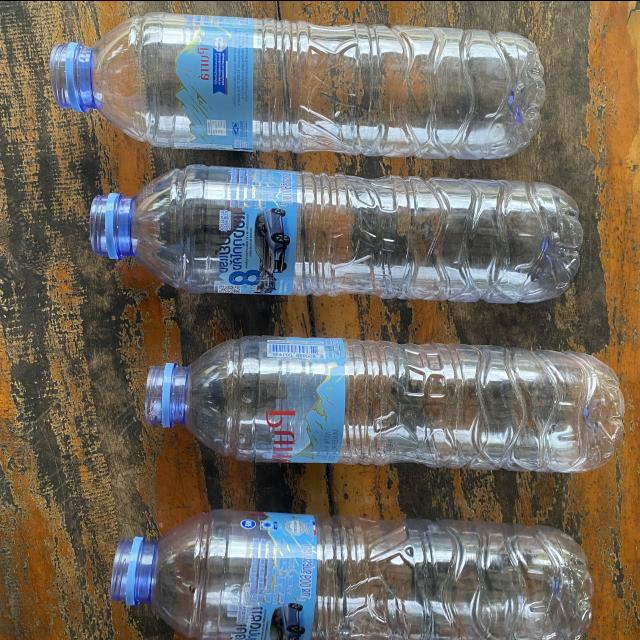plastik: (50, 12, 544, 158), (90, 165, 582, 302), (145, 335, 624, 472), (111, 510, 593, 640)
